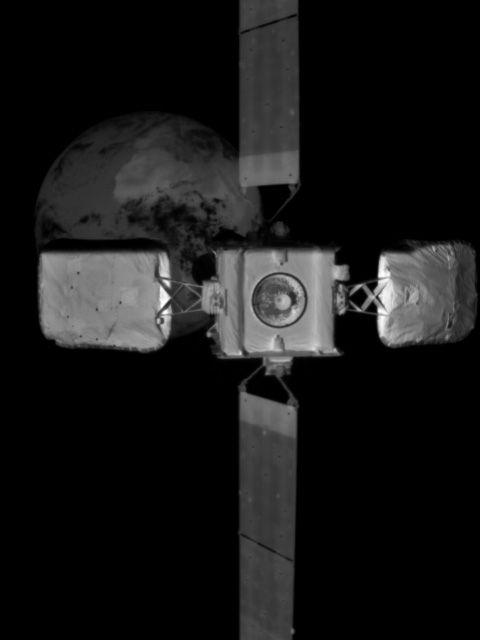antenna: (36, 234, 174, 355), (375, 235, 480, 350), (190, 249, 218, 288)
body: (201, 237, 343, 361)
solar: (235, 387, 303, 640), (236, 0, 303, 190)
thruster: (273, 292, 293, 310)
